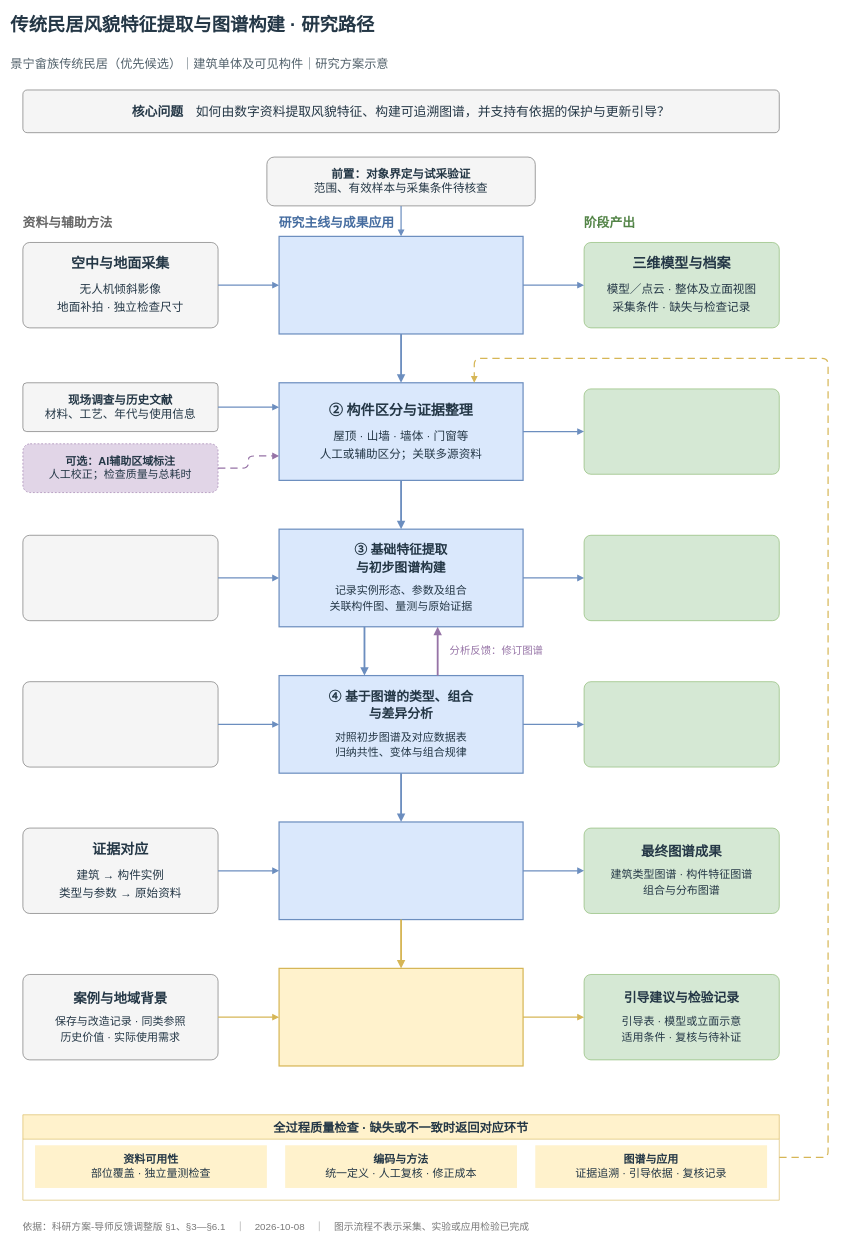
The diagram is 844 pixels wide and 1247 high, and some of its shapes have lost their labels. Each missing label, with the centre of its shape:
"① 倾斜摄影建模 同一对象多视角影像 → 重建 检查整体与目标构件的可用性" goes at [400,284].
"⑤ 可追溯的风貌图谱成果 经分析、修订与核验形成成果 保留分类规则、参数及证据关联" goes at [400,870].
"⑥ 图谱应用与风貌引导 依据—建议—适用条件 · 篇幅受控 有限案例检验，记录反馈与修订" goes at [400,1016].
"初步图谱与特征表 构件图 · 形态参数 · 组合记录 证据索引 · 暂定与复核状态" goes at [681,578].
"图谱框架与调查编码 先定组织框架 · 字段与取值规则 证据索引 · 未知状态" goes at [120,578].
"构件实例及证据索引 构件清单 · 图像区域／模型部位 关联现场记录与文献" goes at [681,431].
"类型与差异分析结果 频次、分布与类型—构件矩阵 代表与反例 · 图谱修订依据" goes at [681,724].
"类型学与前人研究 判别依据 · 代表实例 混合类型 · 反例与文献对照" goes at [120,724].
